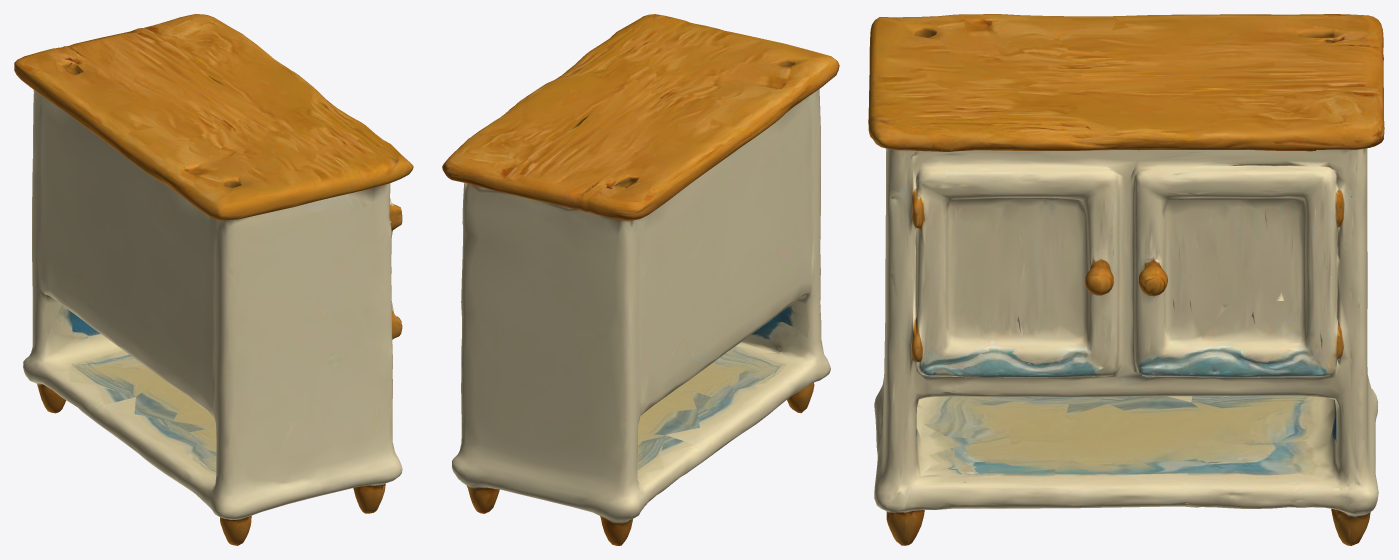
Rendered from room-low-cabinet.glb.
The picture shows the model from 3 angles, left to right: view 1: azimuth 30°, elevation 25°; view 2: azimuth 150°, elevation 25°; view 3: azimuth 270°, elevation 25°; orthographic projection. The views are drawn at different scales.
Parts seen in each view (by area): view 1: tripo_node_6a381f5f-96de-49f0-b087-222c57f5e376; view 2: tripo_node_6a381f5f-96de-49f0-b087-222c57f5e376; view 3: tripo_node_6a381f5f-96de-49f0-b087-222c57f5e376.
Part boxes in pixels (x1=…): tripo_node_6a381f5f-96de-49f0-b087-222c57f5e376: x1=14, y1=14, x2=413, y2=545; tripo_node_6a381f5f-96de-49f0-b087-222c57f5e376: x1=442, y1=14, x2=839, y2=545; tripo_node_6a381f5f-96de-49f0-b087-222c57f5e376: x1=868, y1=14, x2=1384, y2=545.
Bounding box in the file's own units: 0.5821 × 0.91 × 0.9777.
Materials: 1 (1 with a texture image).
